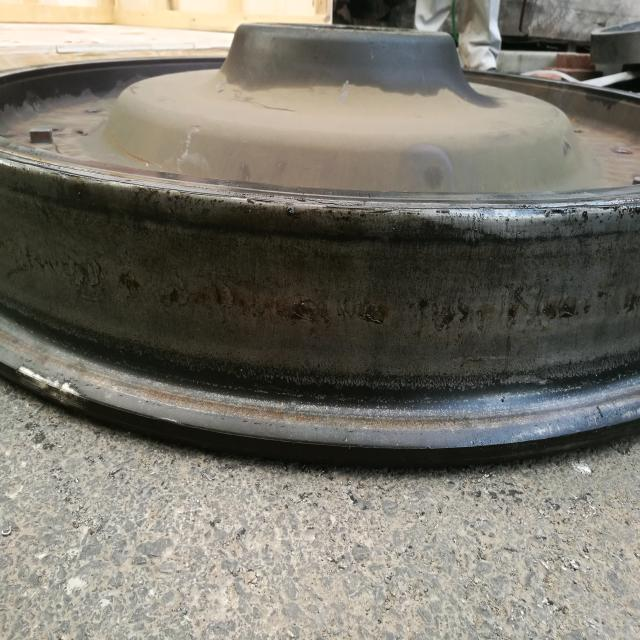Peeling: (215, 278, 271, 323), (23, 245, 71, 273), (286, 298, 327, 327), (434, 307, 468, 330), (79, 261, 102, 294), (543, 301, 577, 321), (160, 288, 192, 309), (411, 298, 429, 331), (118, 272, 142, 295), (363, 302, 386, 326), (624, 289, 640, 313), (509, 305, 518, 327)
